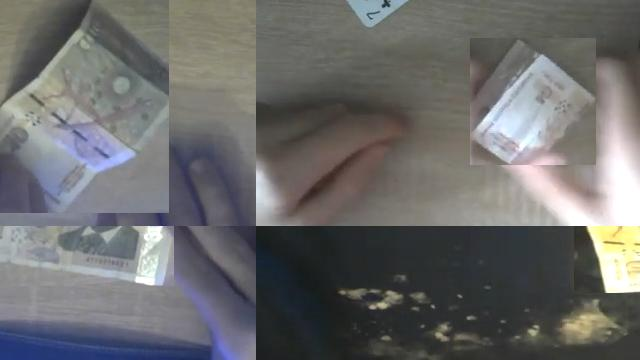10leva: (0, 0, 169, 213)
5leva: (470, 38, 596, 165)
